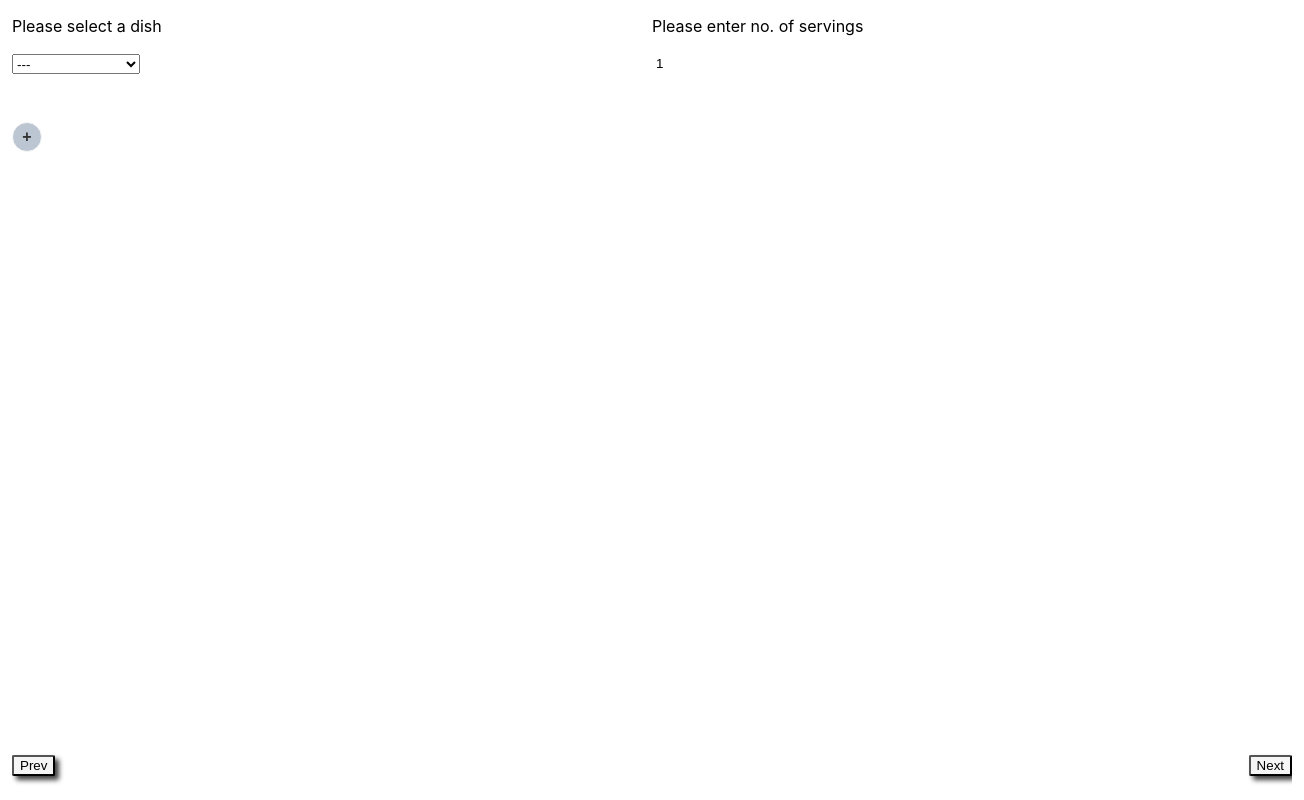
selecting dishes › should not allow an extra dish to be added until dish added in existing
Click the button with class "addDish" at x=27, y=137, box [12, 122, 42, 152]
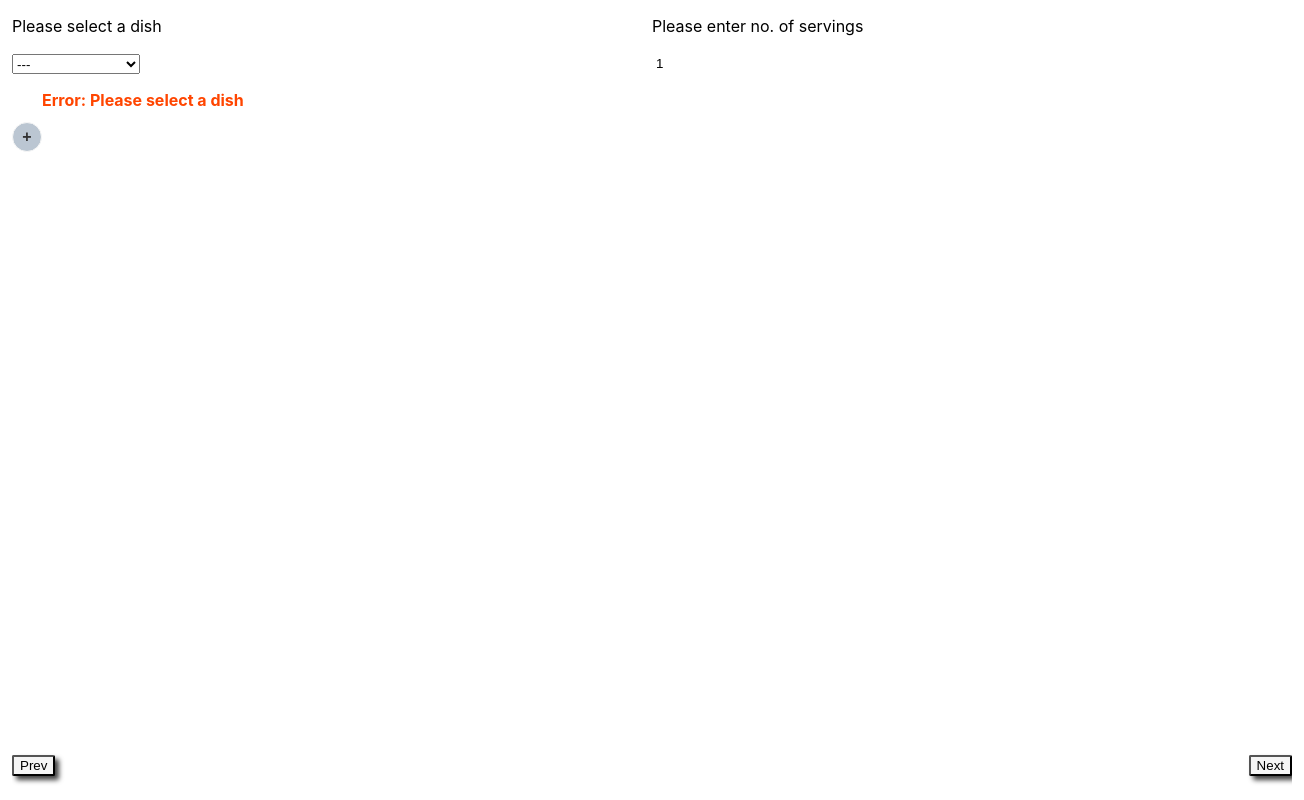
Expected: the number of dropdowns is 1, [12, 54, 140, 74]
Expected: the text "Error: Please select a dish" is shown, [42, 90, 244, 110]
